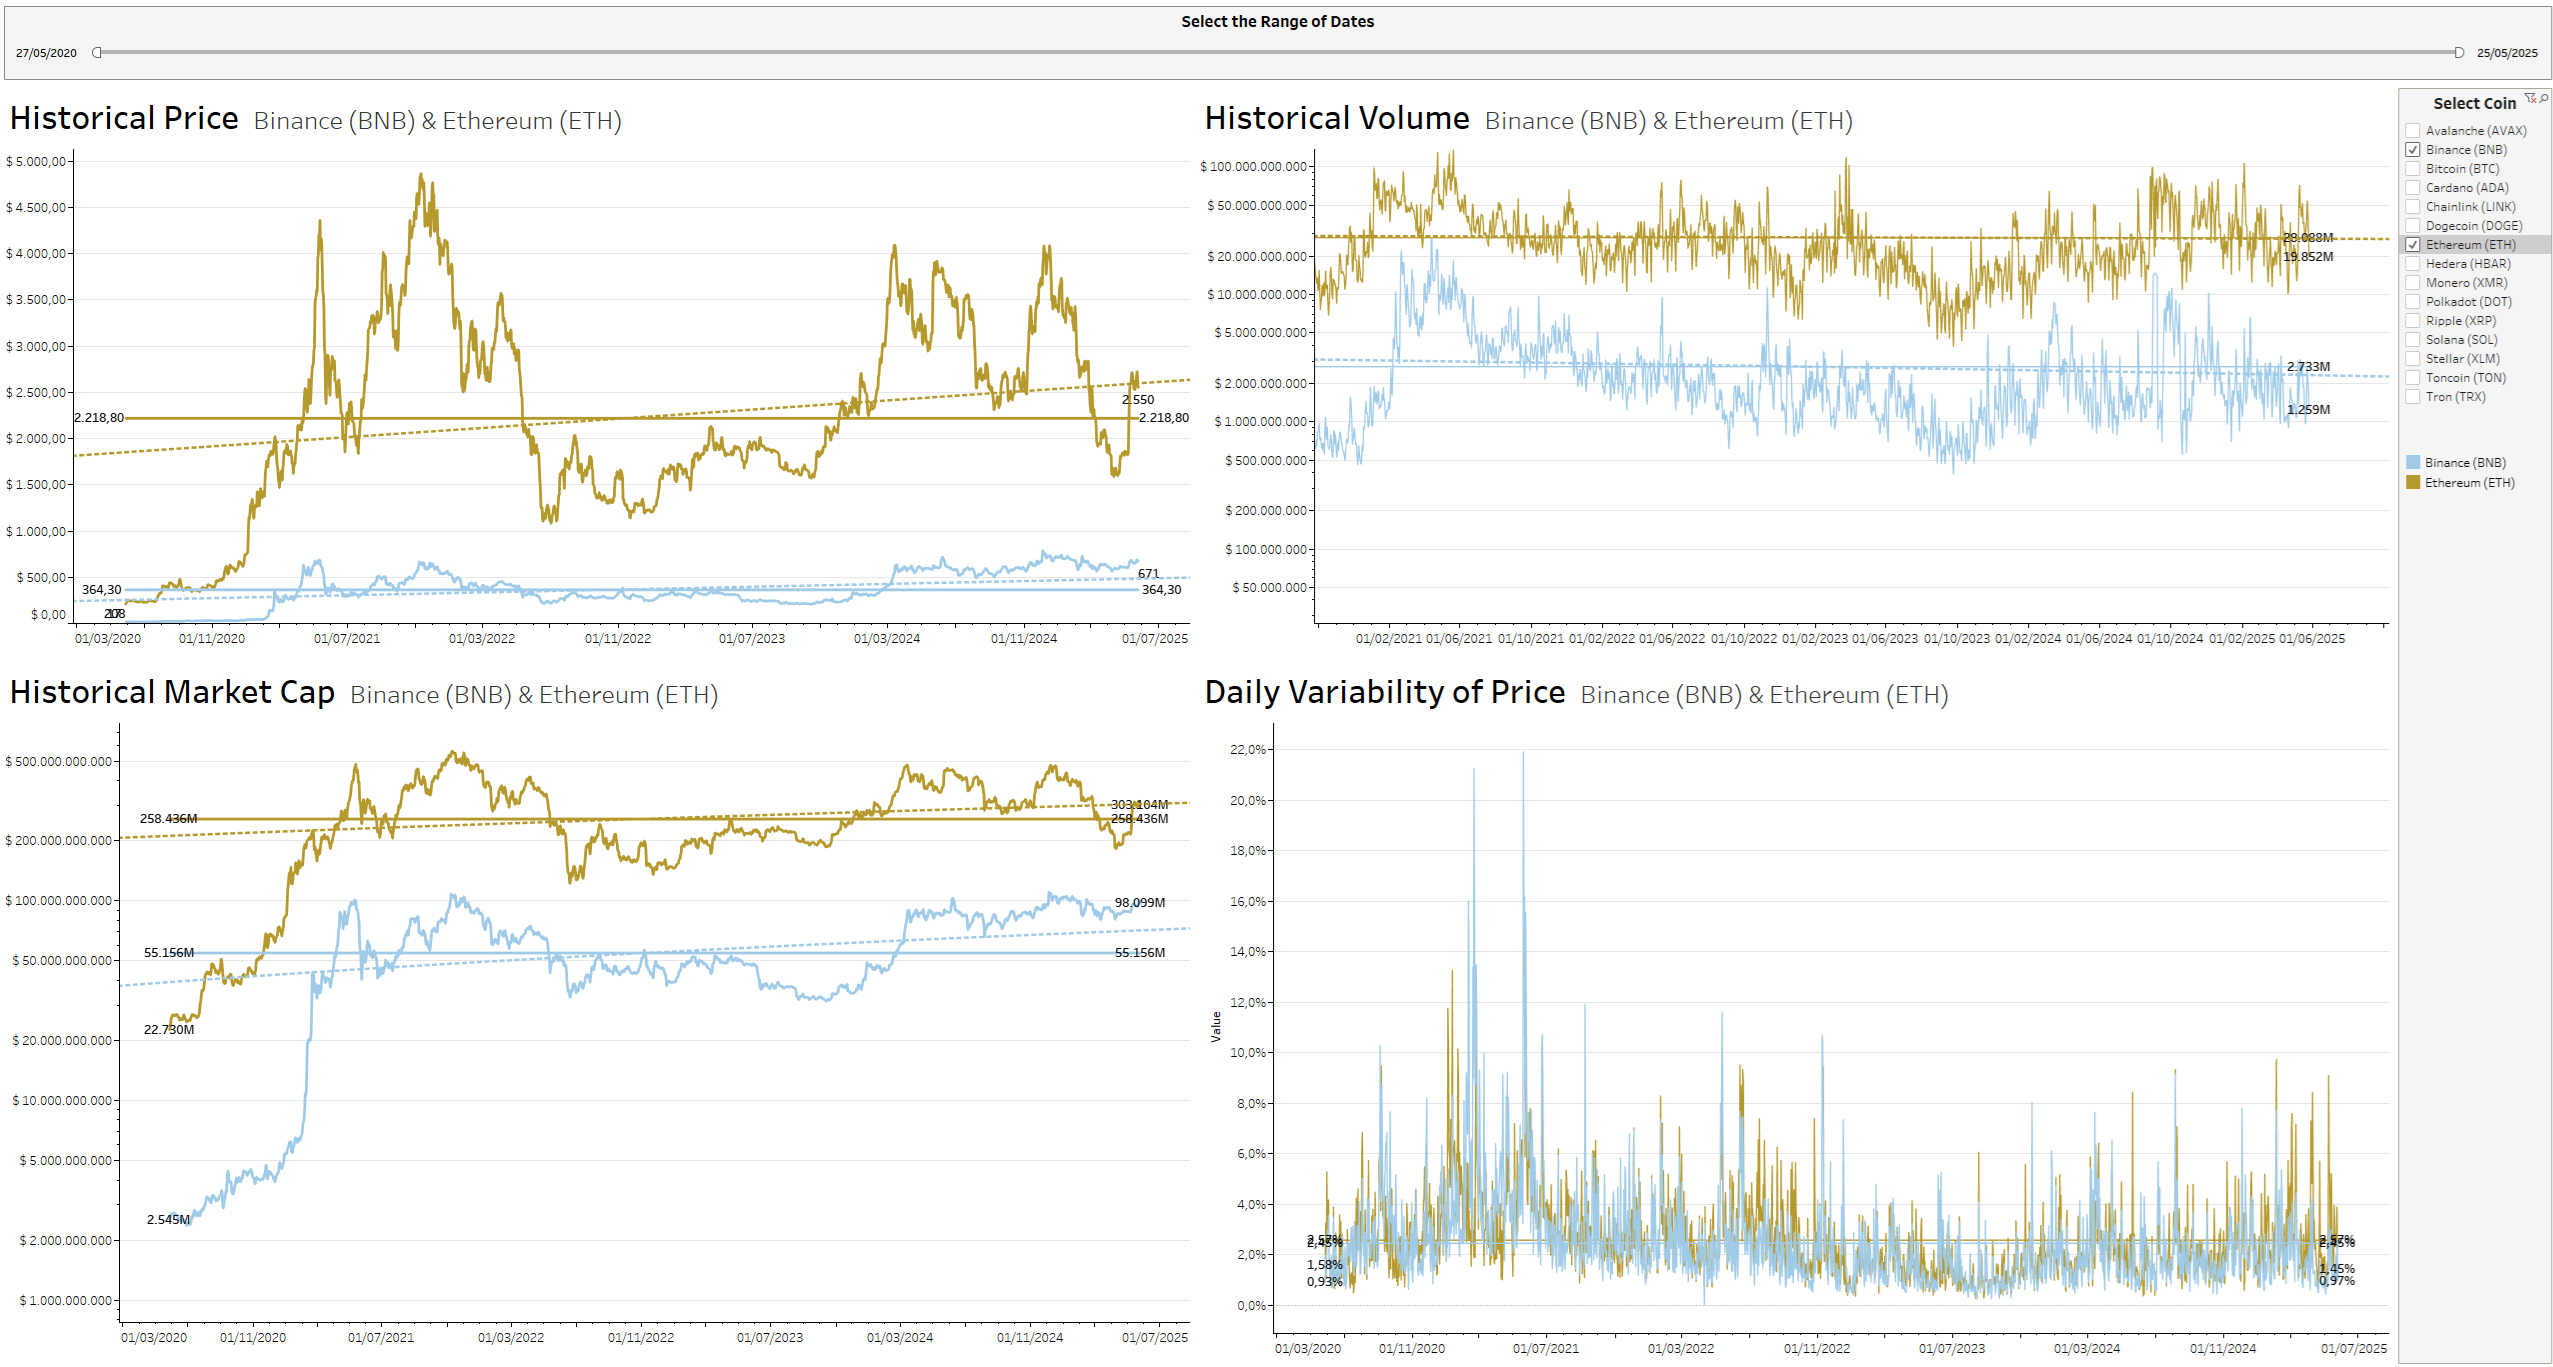

The dashboard page shown, as its layout file describes it:
{"tool":"tableau","page":{"name":"Combined View","canvas":[1000,1000],"units":"permille","ordinal":0},"visuals":[{"type":"filter","title":"Value","param":"[federated.1sxnbkv15zguo016pjmb80ohkvlw].[none:start_date:qk]","box":[0.8,1.6,998.3,60.1]},{"type":"worksheet","title":"Value","mark":"Automatic","cols":["start_date"],"box":[0.8,61.8,466.5,418.6]},{"type":"worksheet","title":"Volume","mark":"Automatic","cols":["start_date"],"box":[467.4,61.8,468.3,418.6]},{"type":"filter","title":"Value","param":"[federated.1sxnbkv15zguo016pjmb80ohkvlw].[none:Calculation_3888576818090954753:n","box":[935.7,61.8,63.5,936.6]},{"type":"legend","title":"Value","param":"[federated.1sxnbkv15zguo016pjmb80ohkvlw].[none:Calculation_3888576818090954753:n","box":[939.6,329.8,55.8,369.2]},{"type":"worksheet","title":"M. Cap.","mark":"Automatic","cols":["start_date"],"box":[0.8,480.3,466.5,518]},{"type":"worksheet","title":"Daily Diff.","mark":"Automatic","cols":["start_date"],"box":[467.4,480.3,468.3,518]}]}

Visuals, with their boxes on the dashboard's canvas, which has no fixed pixel size, in thousandths of its width and height (x1, y1, x2, y2). These are canvas units, not pixel positions in the 2553x1367 screenshot, which may show the page scaled, cropped or inside an application window:
"Value" filter: {"left": 1, "top": 2, "right": 999, "bottom": 62}
"Value" worksheet: {"left": 1, "top": 62, "right": 467, "bottom": 480}
"Volume" worksheet: {"left": 467, "top": 62, "right": 936, "bottom": 480}
"Value" filter: {"left": 936, "top": 62, "right": 999, "bottom": 998}
"Value" legend: {"left": 940, "top": 330, "right": 995, "bottom": 699}
"M. Cap." worksheet: {"left": 1, "top": 480, "right": 467, "bottom": 998}
"Daily Diff." worksheet: {"left": 467, "top": 480, "right": 936, "bottom": 998}
